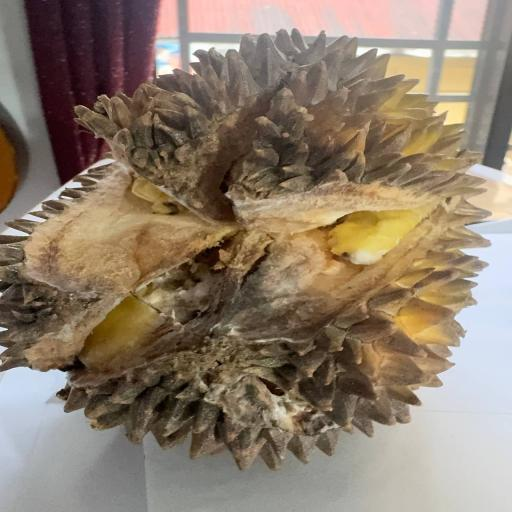mold: (52, 185, 434, 460)
rot: (0, 0, 510, 476)
